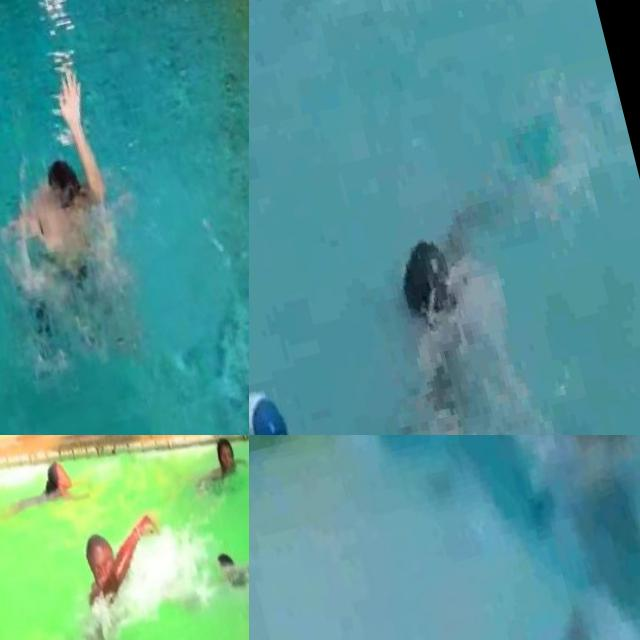drowning: (323, 158, 573, 435), (0, 59, 140, 322), (396, 584, 608, 640), (201, 516, 249, 640)
swimming: (52, 510, 188, 640), (512, 435, 640, 517), (0, 450, 102, 545), (171, 435, 249, 515)
